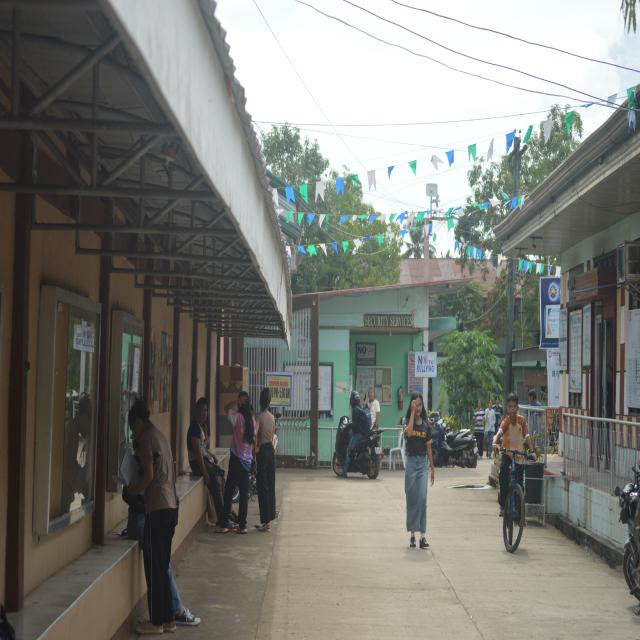person: (128, 399, 178, 634), (215, 392, 256, 534), (404, 393, 434, 548), (187, 398, 223, 525), (493, 393, 536, 459), (256, 388, 275, 531), (339, 391, 368, 477), (123, 487, 144, 548), (473, 399, 484, 458), (365, 388, 380, 428), (485, 399, 495, 458), (529, 390, 541, 406)
